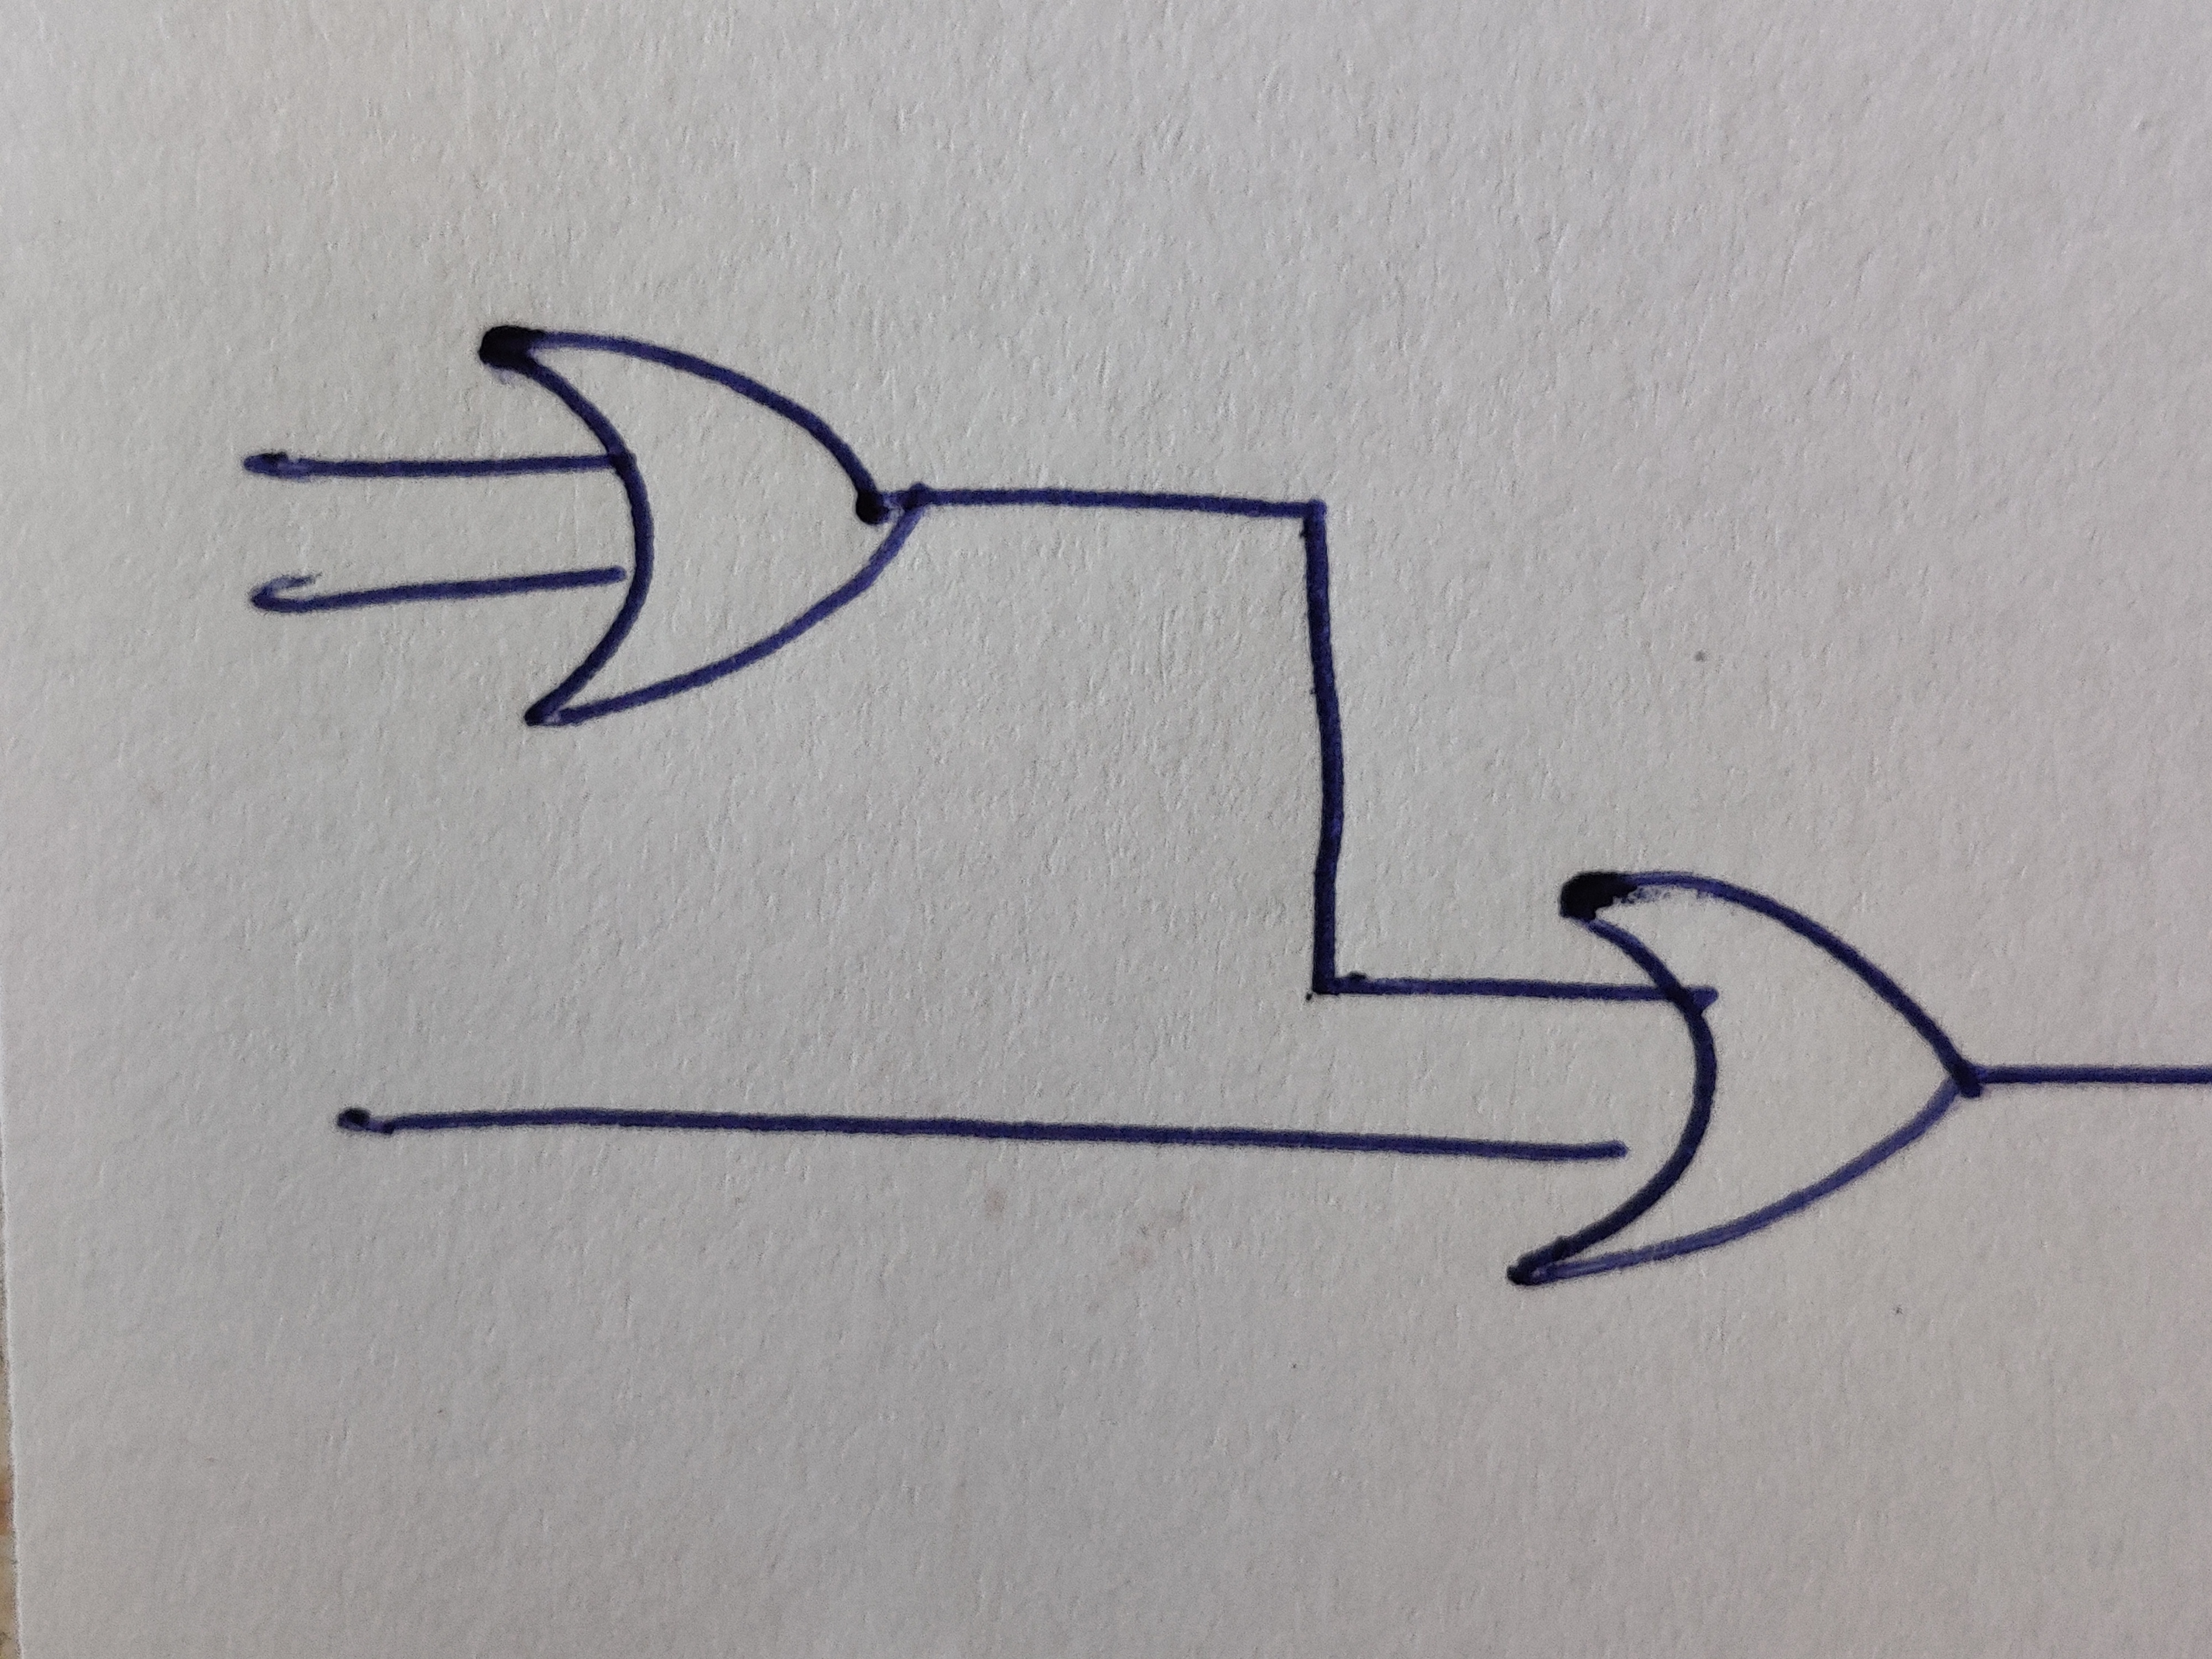or: (1507, 870, 1984, 1286), (479, 324, 935, 728)
